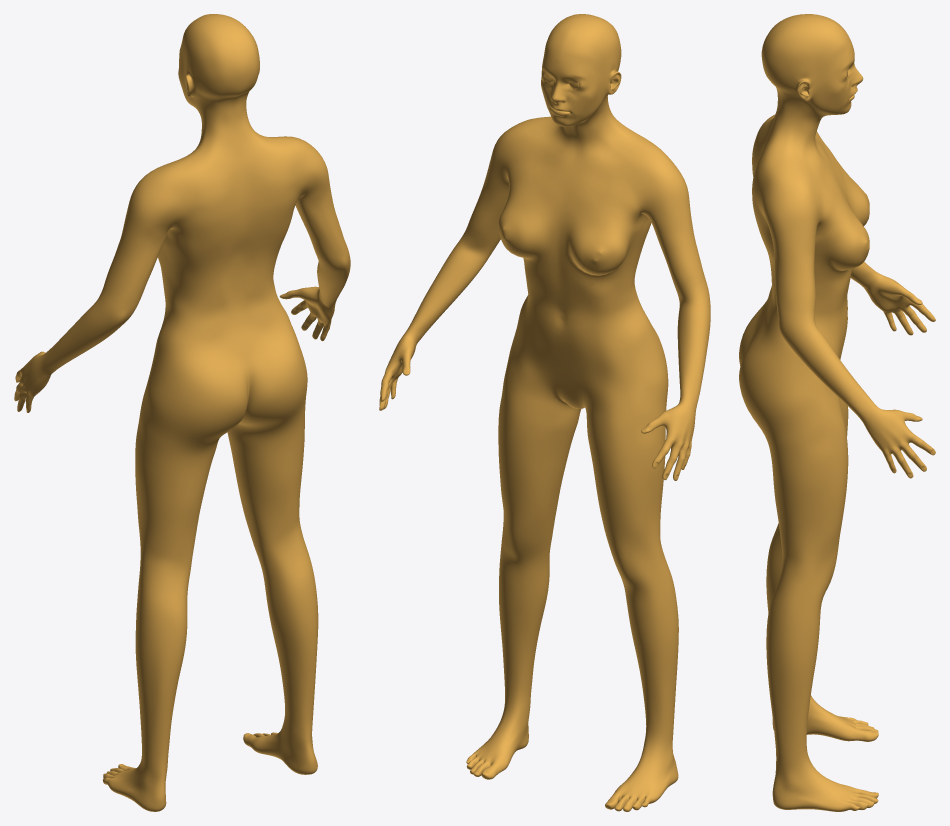
File: athletic-gel-figure-v3-sealed-eyes.glb
3 views of the same model, side by side, from view 1: azimuth 30°, elevation 25°; view 2: azimuth 150°, elevation 25°; view 3: azimuth 270°, elevation 25° (orthographic).
Visible parts, largest first — view 1: athletic; view 2: athletic; view 3: athletic.
Part boxes in pixels (x1=…): athletic: x1=14, y1=14, x2=350, y2=811; athletic: x1=379, y1=14, x2=710, y2=811; athletic: x1=739, y1=14, x2=935, y2=811.
Bounding box in the file's own units: 0.7098 × 1.7 × 0.402.
